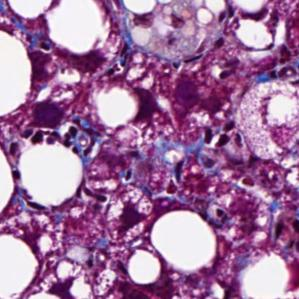inflammation: (20, 98, 76, 148), (193, 107, 244, 156)
